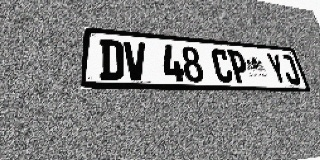4: (161, 44, 185, 82)
8: (180, 46, 205, 82)
C: (210, 48, 234, 83)
D: (100, 39, 124, 80)
J: (279, 54, 302, 85)
P: (227, 50, 251, 83)
V: (124, 41, 148, 81)
Y: (265, 53, 289, 84)
